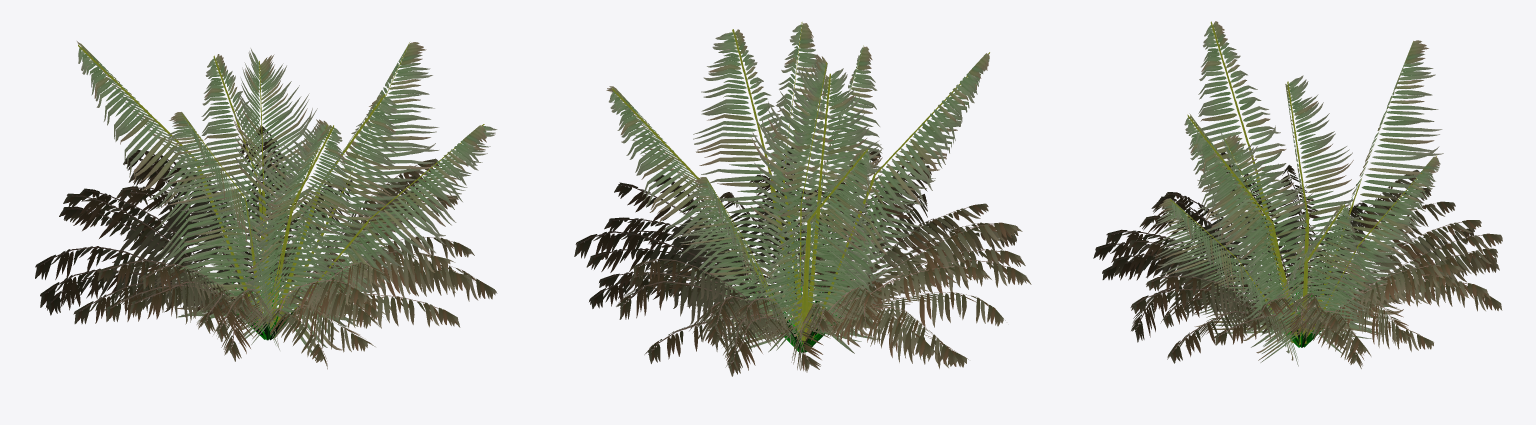
File: fern.fbx
The picture shows the model from 3 angles, left to right: view 1: azimuth 30°, elevation 25°; view 2: azimuth 150°, elevation 25°; view 3: azimuth 270°, elevation 25°; orthographic projection. The views are drawn at different scales.
Visible parts, largest first — view 1: fern leaf 01_1, fern leaf 02_2; view 2: fern leaf 01_1, fern leaf 02_2, stem 01 brown_0; view 3: fern leaf 01_1, fern leaf 02_2.
Part boxes in pixels (x1,y1,x2,y2): fern leaf 01_1: (77, 41, 497, 358); fern leaf 02_2: (35, 126, 497, 369); fern leaf 01_1: (606, 22, 989, 354); fern leaf 02_2: (574, 147, 1031, 376); stem 01 brown_0: (755, 281, 848, 352); fern leaf 01_1: (1153, 21, 1443, 366); fern leaf 02_2: (1093, 152, 1502, 368).
Bounding box in the file's own units: 156 × 117 × 155.
Materials: 2 (2 with a texture image).
